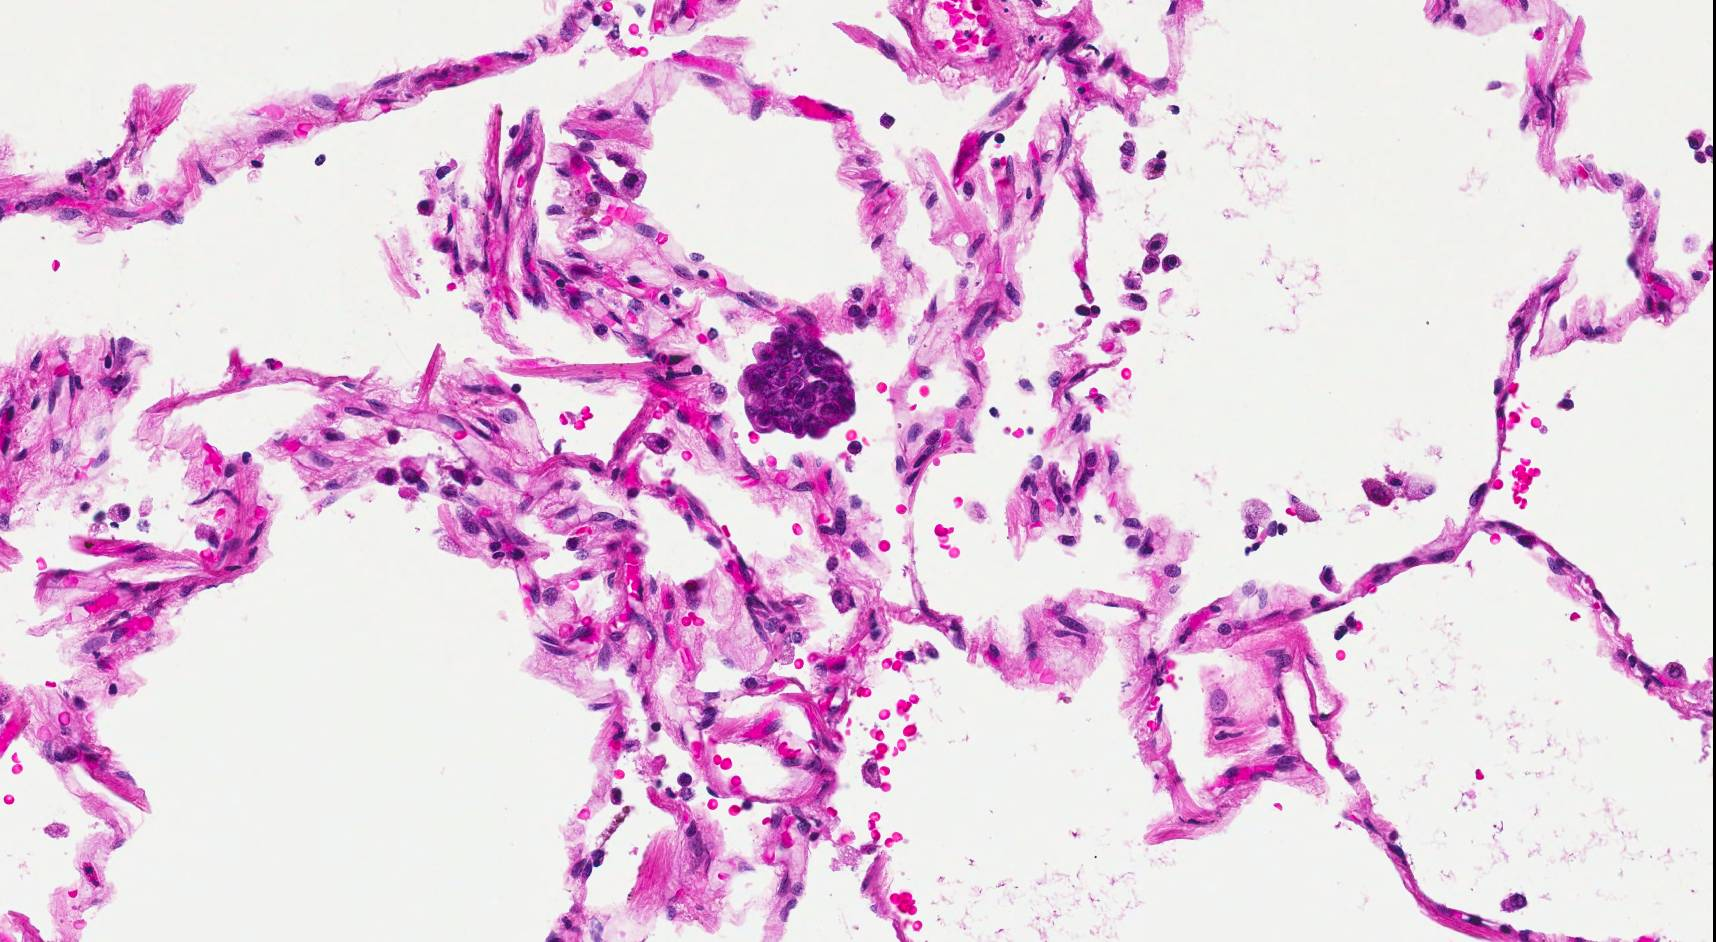stas: (733, 323, 863, 440)
